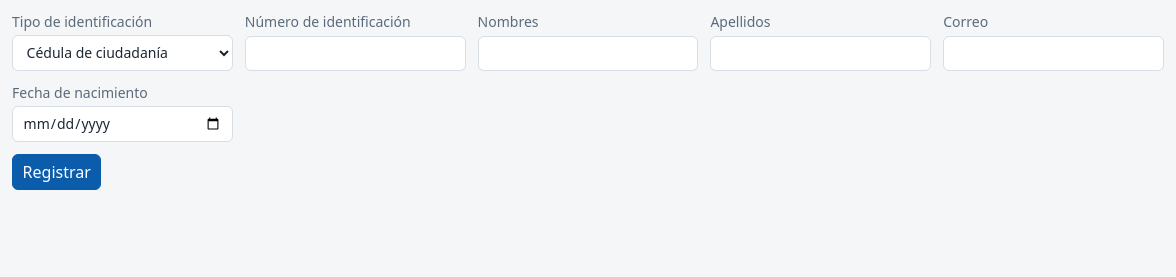
Test case: FormularioCliente › presenta la regla de negocio que rechaza la API
This screenshot has width=1176, height=277.
Type "1075123456" into the field labelled "Número de identificación" at point(355, 53), box [245,36,466,71]
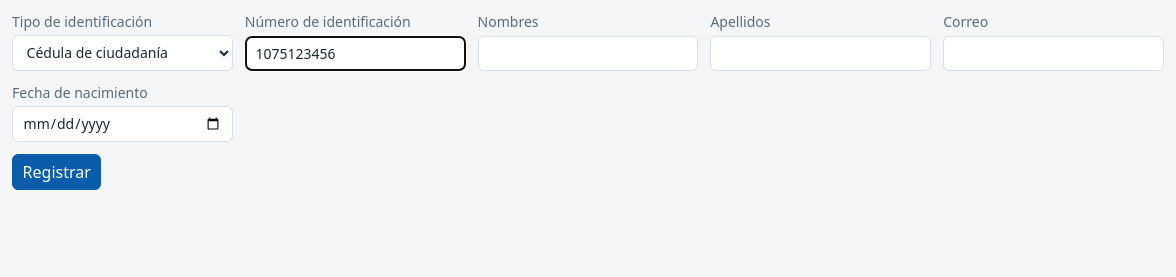
Type "Ana María" into the field labelled "Nombres" at point(588, 53), box [478,36,698,71]
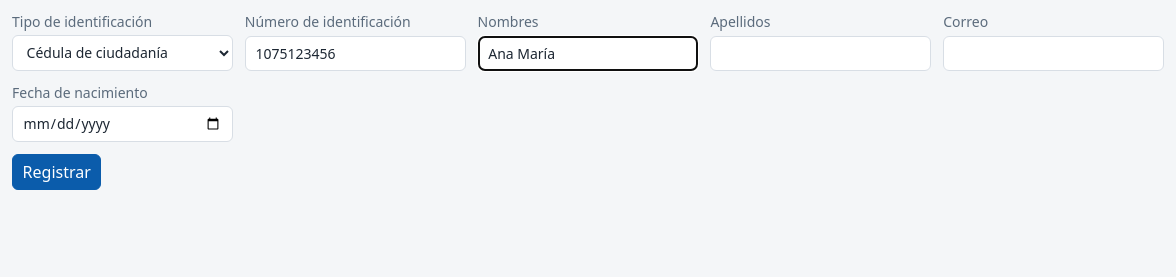
Type "Gómez" into the field labelled "Apellidos" at point(821, 53), box [710,36,931,71]
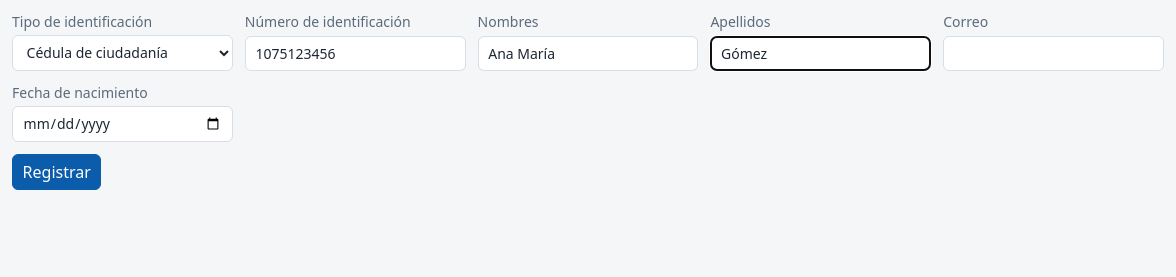
Type "ana@correo.com" into the field labelled "Correo" at point(1054, 53), box [943,36,1164,71]
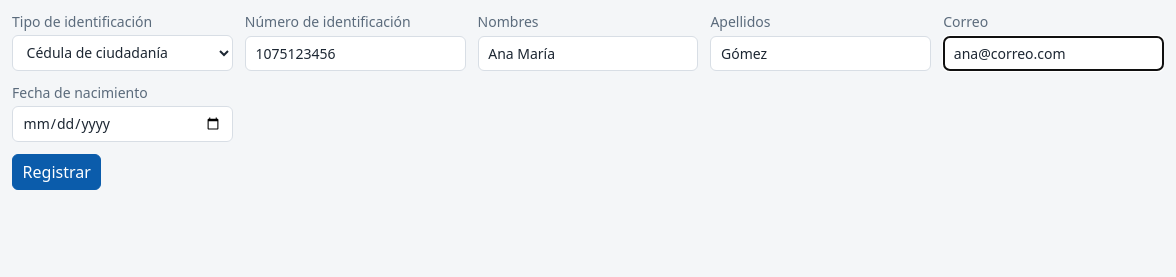
Type "1995-04-12" into the date field labelled "Fecha de nacimiento" at point(122, 124), box [12,106,233,142]
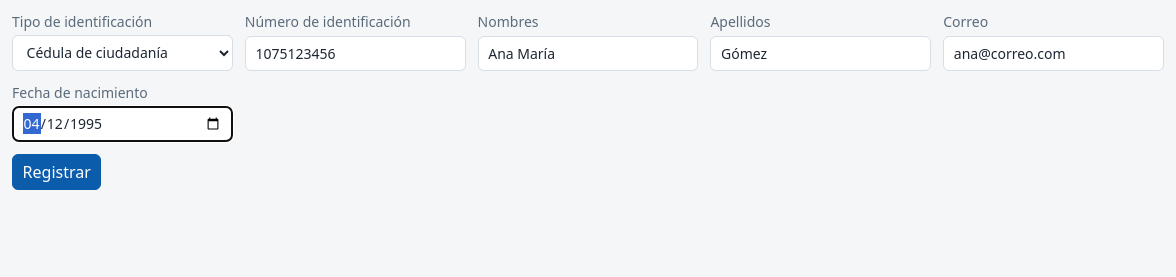
Click the button "Registrar" at point(57, 172), box [12,154,102,190]
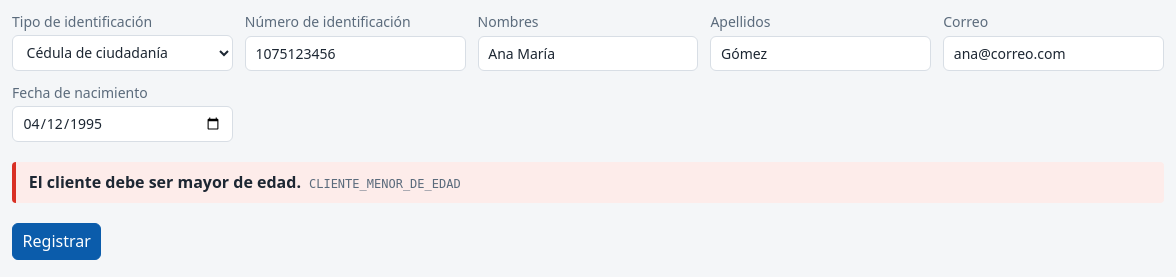
Now the message shows "CLIENTE_MENOR_DE_EDAD", box [309,177,461,191]
